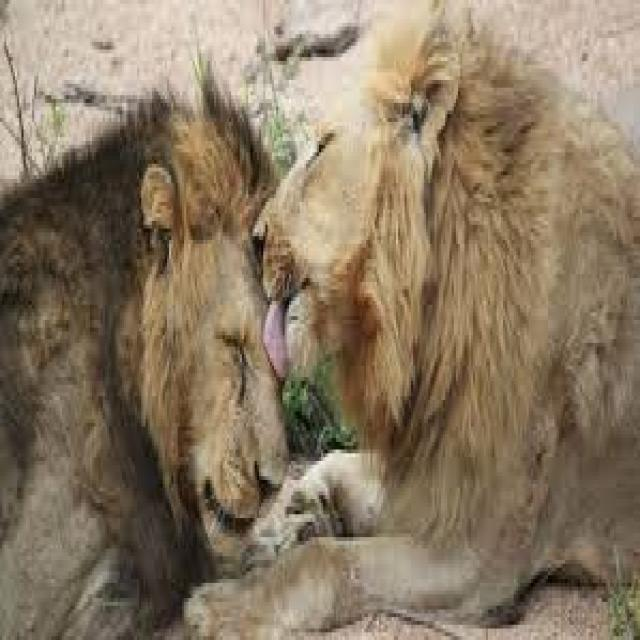Lion: (180, 28, 638, 635), (1, 98, 291, 636)
